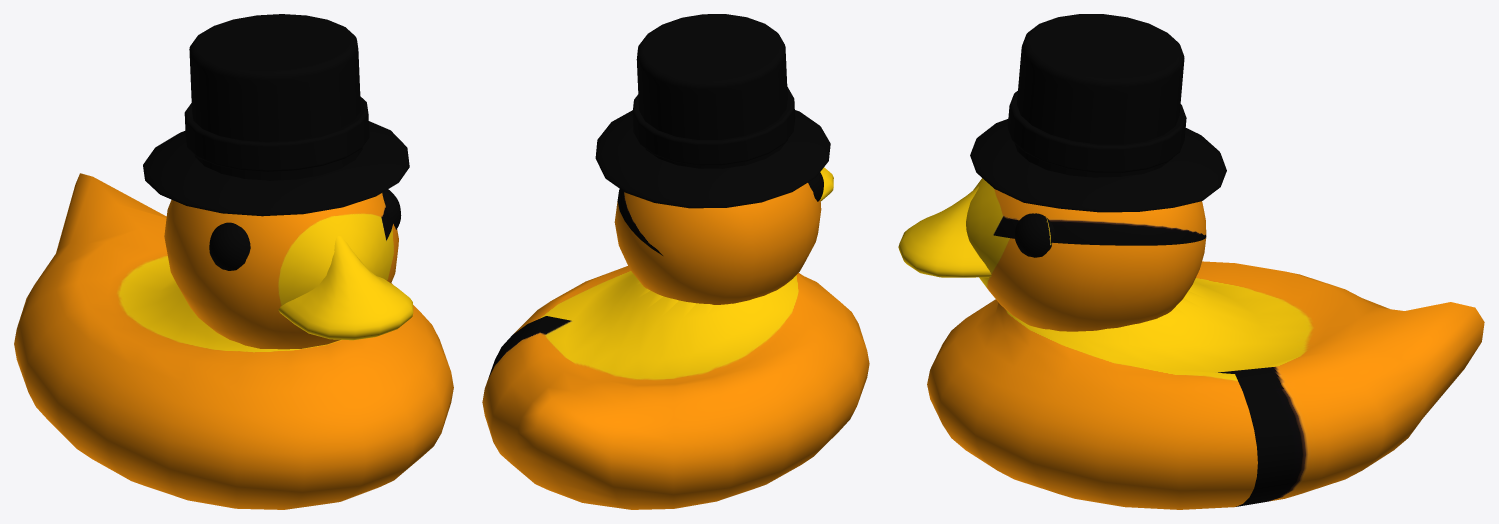
Rendered from duck.fbx.
3 renders of one model, left to right at view 1: azimuth 30°, elevation 25°; view 2: azimuth 150°, elevation 25°; view 3: azimuth 270°, elevation 25°, orthographic. The views are drawn at different scales.
Parts seen in each view (by area): view 1: patitodegoma2; view 2: patitodegoma2; view 3: patitodegoma2.
Part boxes in pixels (<box>): patitodegoma2: <box>14,14,453,509</box>; patitodegoma2: <box>482,14,869,509</box>; patitodegoma2: <box>898,14,1484,509</box>.
Bounding box in the file's own units: 12.94 × 16.02 × 19.41.
1 material, 1 textured.
